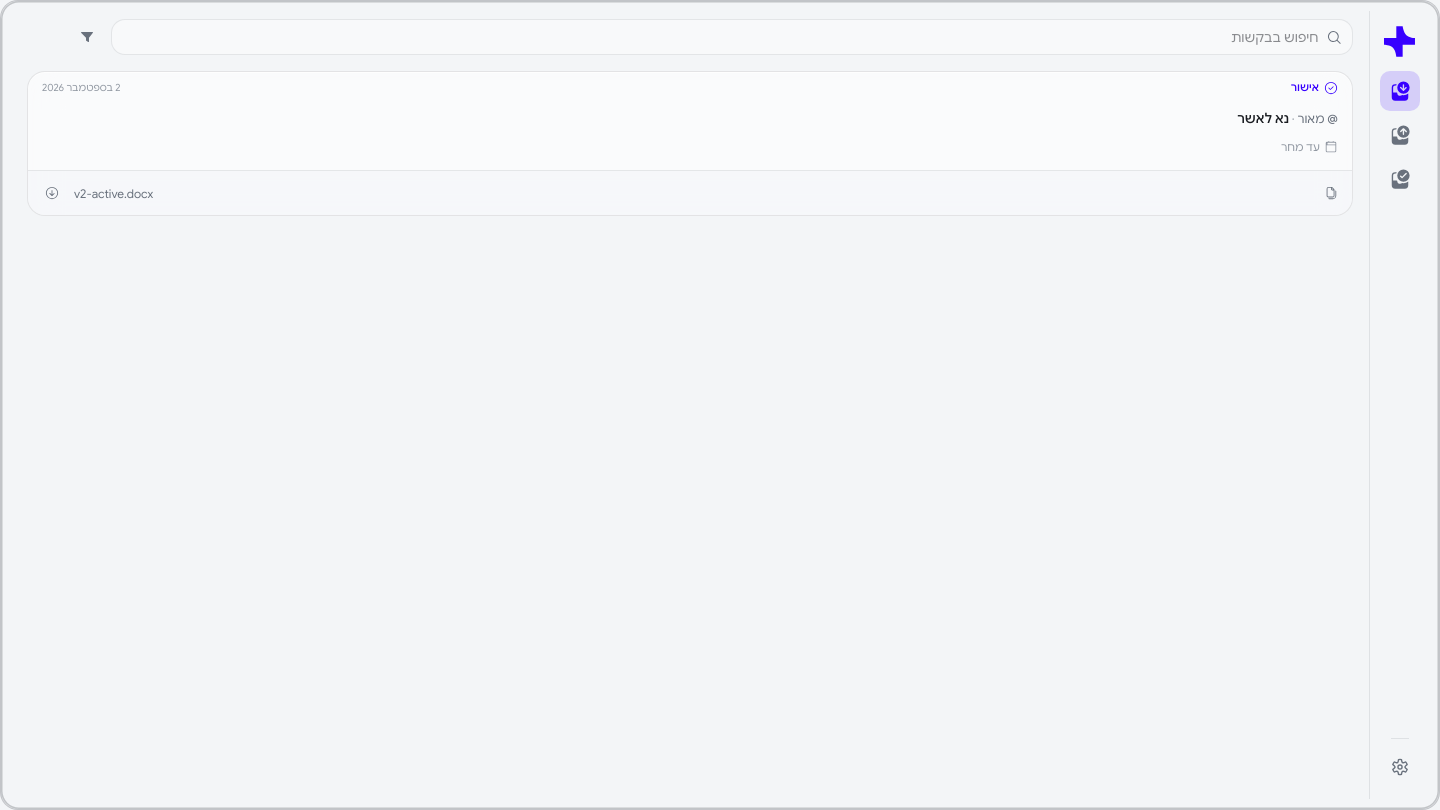
local request search › clears search and restores the section cards
The width and height of the screenshot is (1440, 810).
Type "אין-התאמה" into the search field labelled "חיפוש בבקשות" at (720, 37), box [122,20,1318,54]
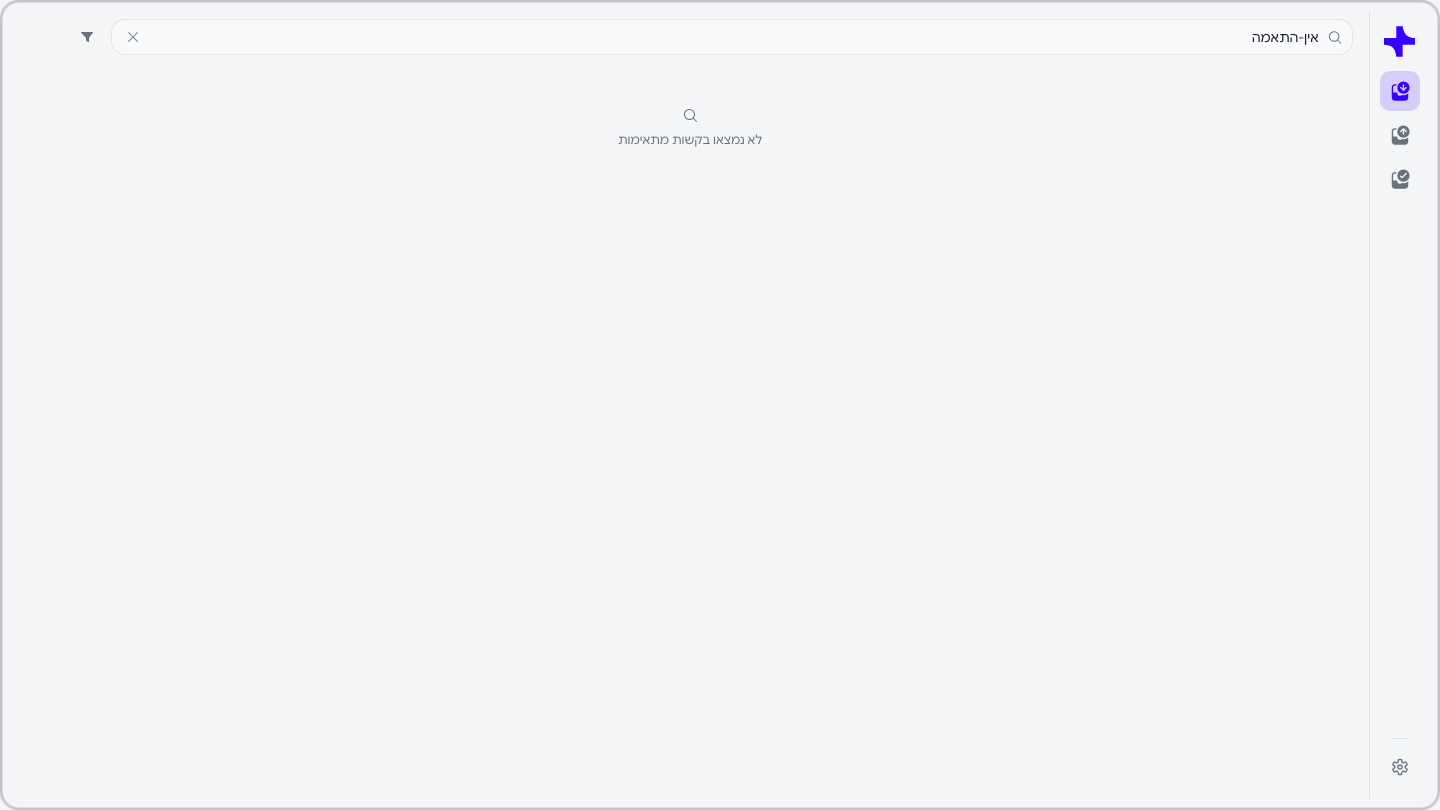
Expected: the text "לא נמצאו בקשות מתאימות" is shown, [618,131,762,149]
Click the button named "נקה חיפוש" at (133, 37), box [122,26,144,48]
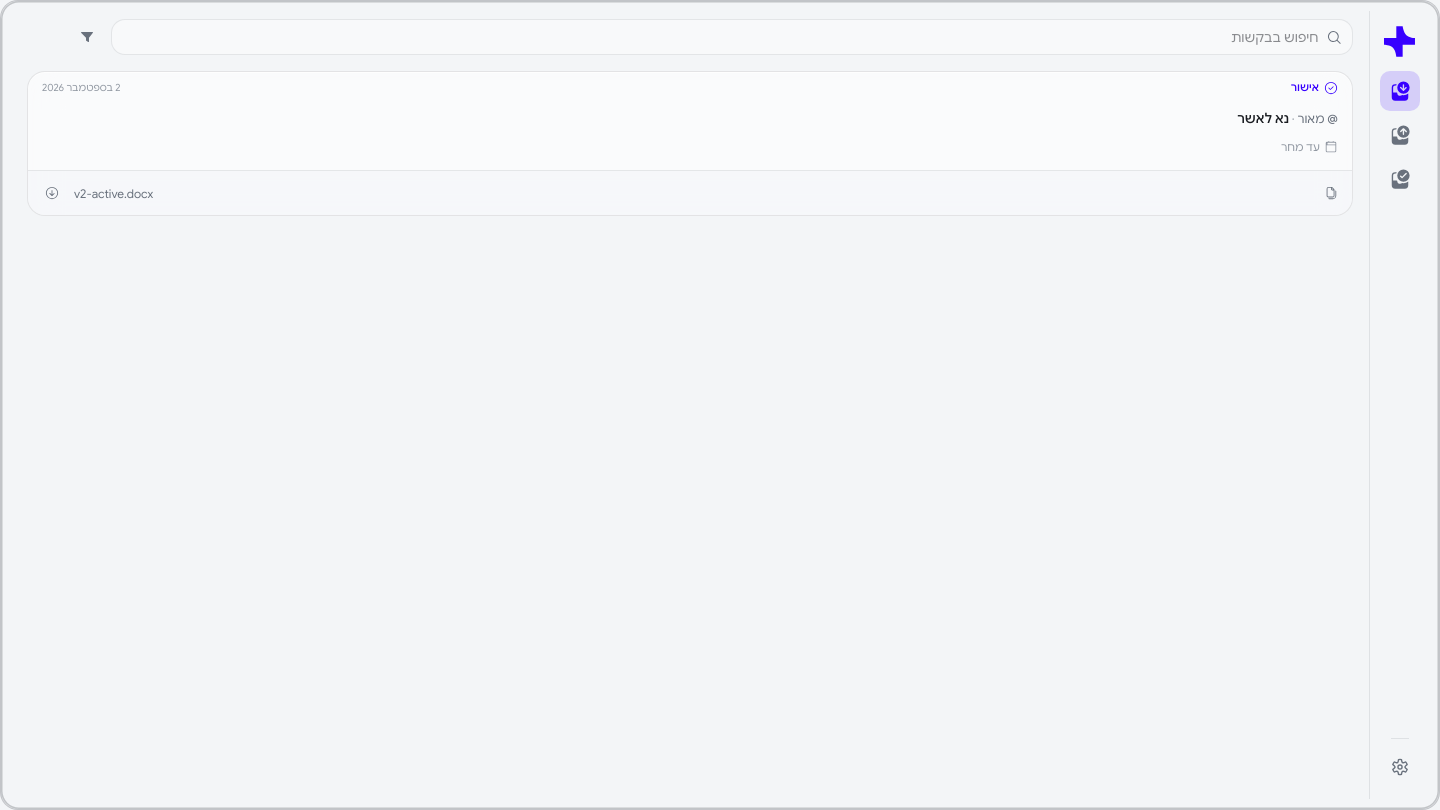
Expected: the search field labelled "חיפוש בבקשות" is empty, [122,20,1318,54]
Expected: the text titled "v2-active.docx" is shown, [74,186,153,201]
Expected: the text "לא נמצאו בקשות מתאימות" is gone
